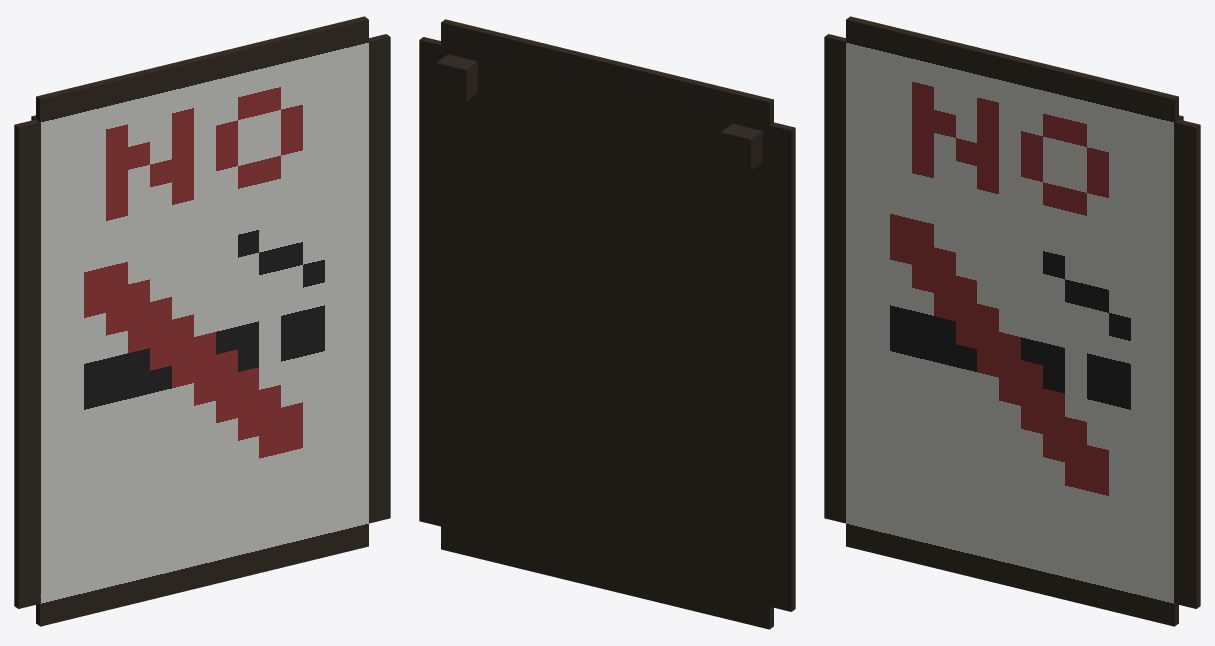
File: CMU3DCMPosterNoSmoking2DecorFinalCloud.glb
The picture shows the model from 3 angles, left to right: view 1: azimuth 30°, elevation 25°; view 2: azimuth 150°, elevation 25°; view 3: azimuth 330°, elevation 25°; orthographic projection.
Parts seen in each view (by area): view 1: no-smoking printed sign original face, no-smoking printed sign contour backing 1, no-smoking printed sign contour backing 0; view 2: no-smoking printed sign contour backing 1, no-smoking printed sign contour backing 0, no-smoking printed sign contour backing 2, rear sign attachment 22, rear sign attachment 9; view 3: no-smoking printed sign original face, no-smoking printed sign contour backing 1, no-smoking printed sign contour backing 0.
Boxes of the visible parts, x1=… form: no-smoking printed sign original face: x1=18, y1=19, x2=390, y2=626; no-smoking printed sign contour backing 1: x1=14, y1=34, x2=389, y2=608; no-smoking printed sign contour backing 0: x1=36, y1=16, x2=368, y2=122; no-smoking printed sign contour backing 1: x1=419, y1=37, x2=795, y2=611; no-smoking printed sign contour backing 0: x1=441, y1=19, x2=773, y2=125; no-smoking printed sign contour backing 2: x1=441, y1=526, x2=773, y2=629; rear sign attachment 22: x1=436, y1=54, x2=477, y2=101; rear sign attachment 9: x1=721, y1=123, x2=762, y2=170; no-smoking printed sign original face: x1=824, y1=19, x2=1196, y2=626; no-smoking printed sign contour backing 1: x1=825, y1=34, x2=1200, y2=608; no-smoking printed sign contour backing 0: x1=846, y1=16, x2=1178, y2=122.
Bounding box in the file's own units: 0.5314 × 0.7189 × 0.0397.
Materials: 2 (1 with a texture image).
